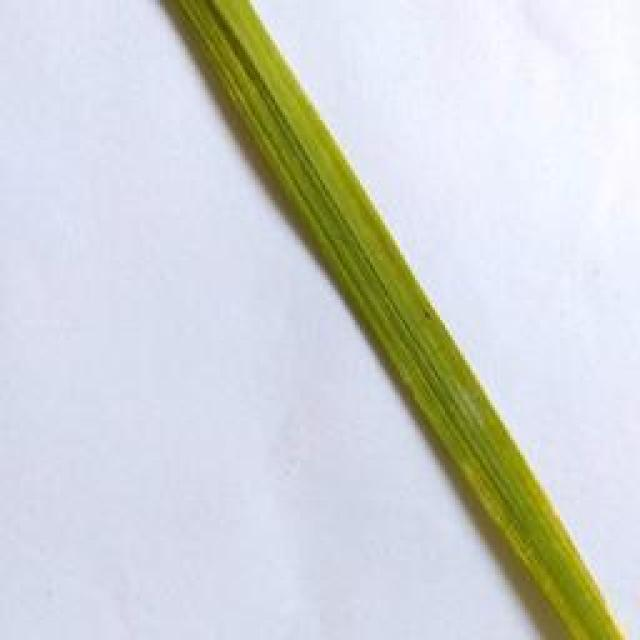Healthy-Plant: (164, 0, 628, 640)
